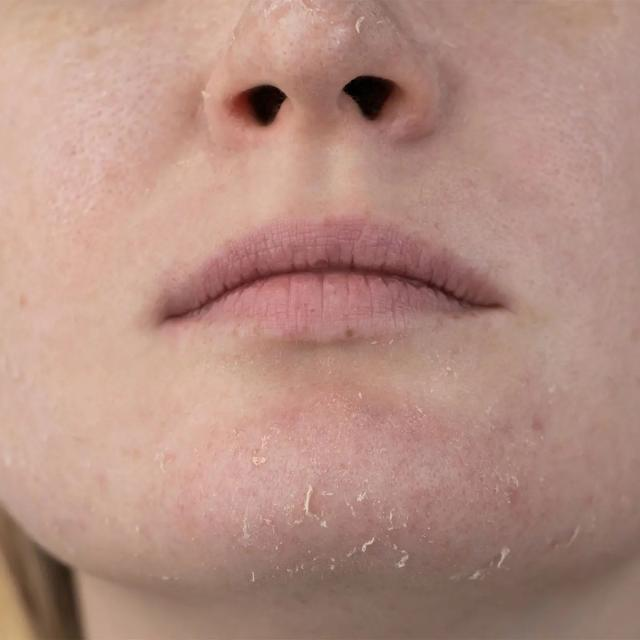flakiness: (239, 426, 540, 596), (225, 0, 392, 46)
